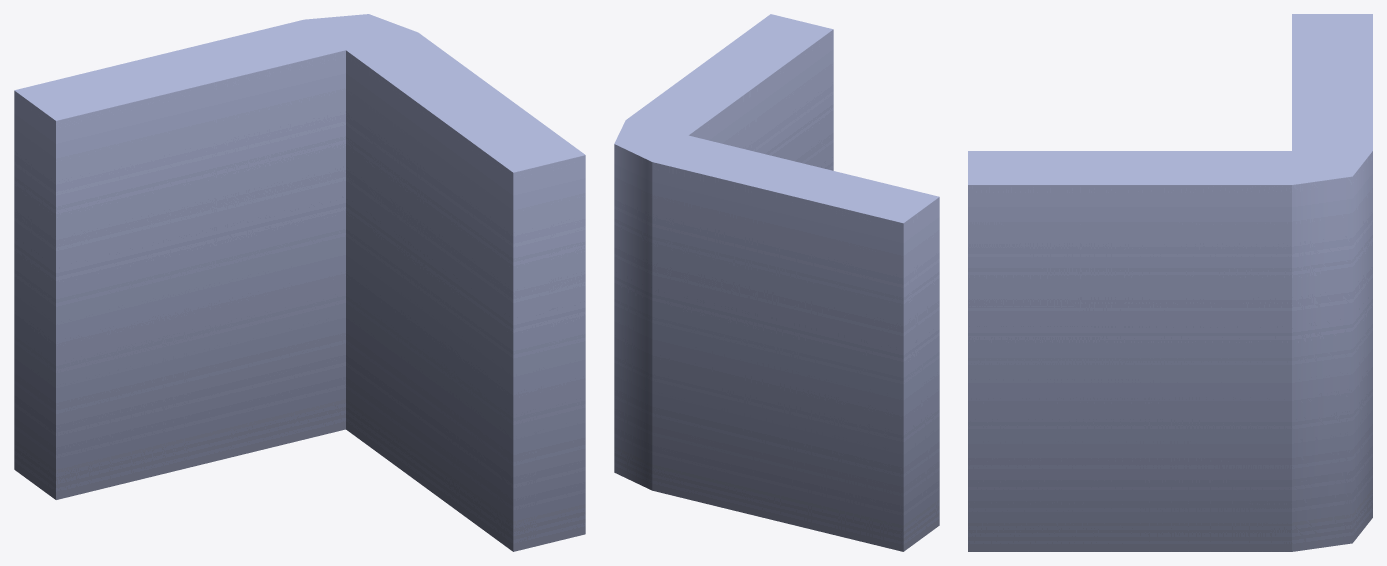
File: wall-corner-rounded.glb
3 renders of one model, left to right at view 1: azimuth 30°, elevation 25°; view 2: azimuth 150°, elevation 25°; view 3: azimuth 270°, elevation 25°, orthographic. The views are drawn at different scales.
Parts seen in each view (by area): view 1: wall-corner-rounded; view 2: wall-corner-rounded; view 3: wall-corner-rounded.
Boxes of the visible parts, left/top/right/bottom form: wall-corner-rounded: left=14, top=14, right=585, bottom=551; wall-corner-rounded: left=614, top=14, right=939, bottom=551; wall-corner-rounded: left=968, top=14, right=1372, bottom=551.
Bounding box in the file's own units: 1 × 1 × 1.
Materials: 1 (1 with a texture image).
